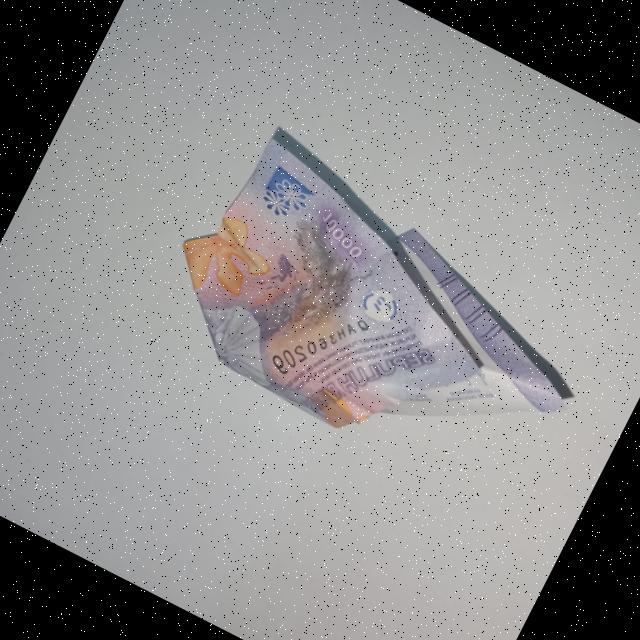10K: (135, 109, 625, 522)
